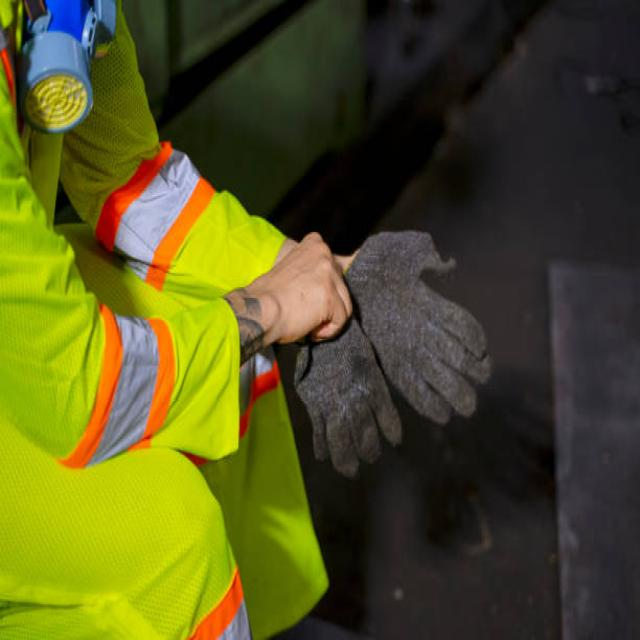Gloves: (342, 219, 501, 431), (286, 286, 407, 482)
person: (0, 0, 492, 640)
